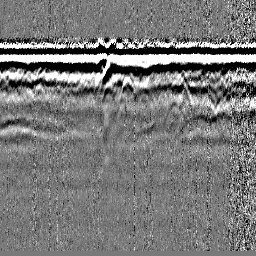cavity: (119, 74, 136, 98)
